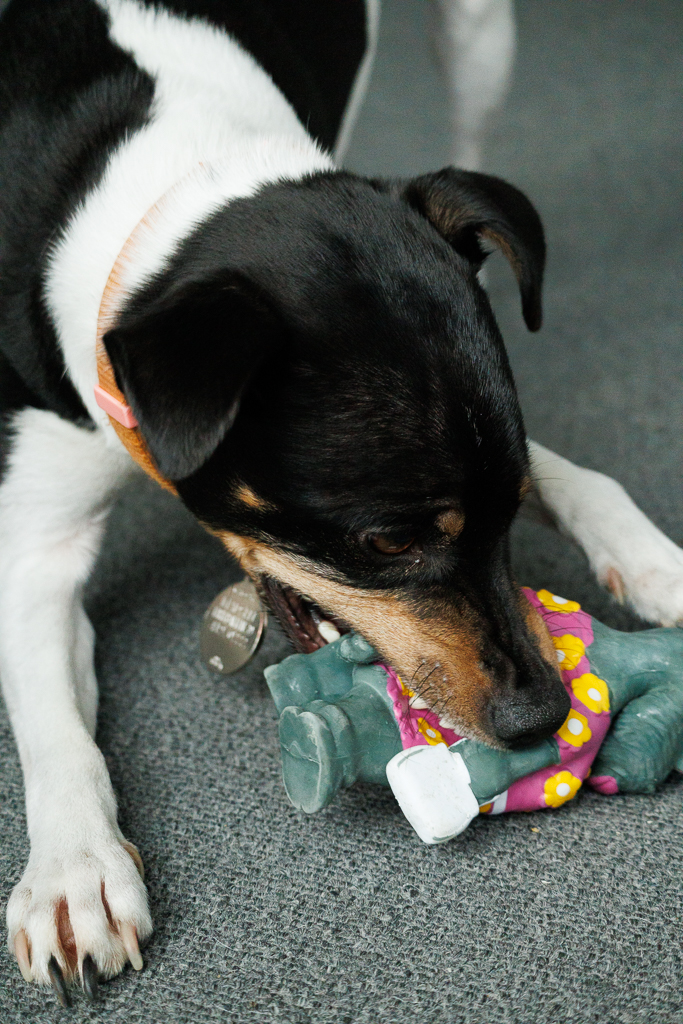Dog: (0, 0, 683, 1012)
Humanoid: (215, 541, 683, 865)
